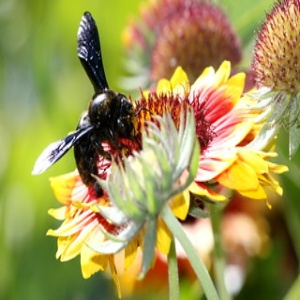bee: (28, 8, 142, 200)
